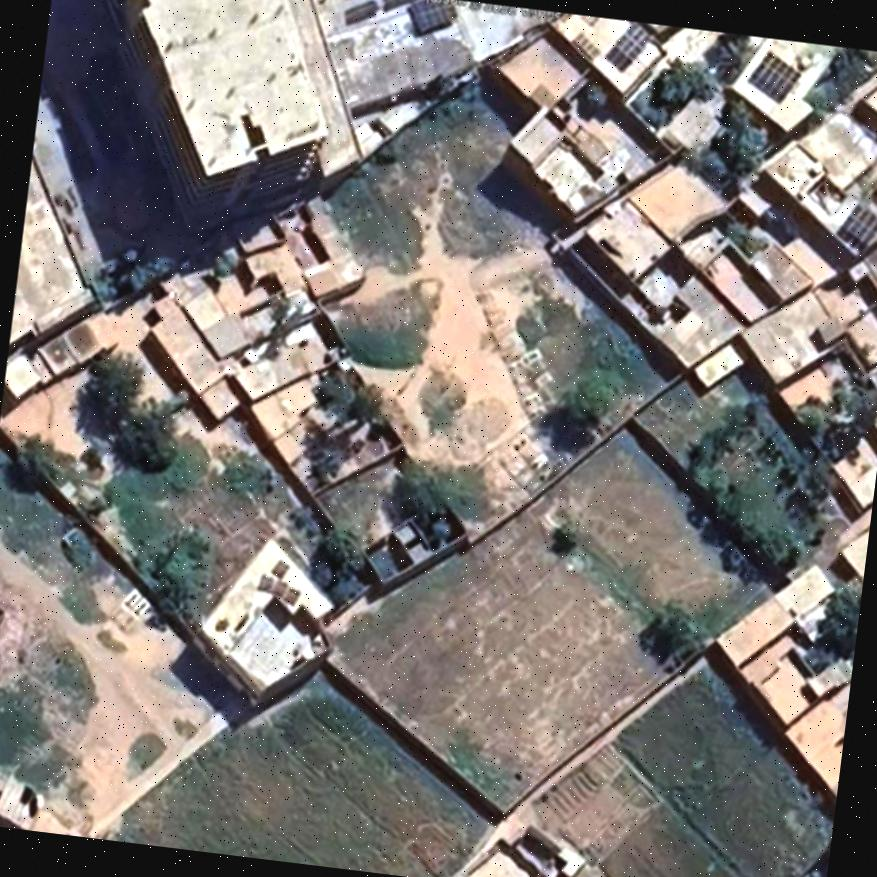Solarpanel: (750, 51, 801, 96), (409, 0, 449, 33), (844, 202, 877, 242), (619, 26, 649, 59)
